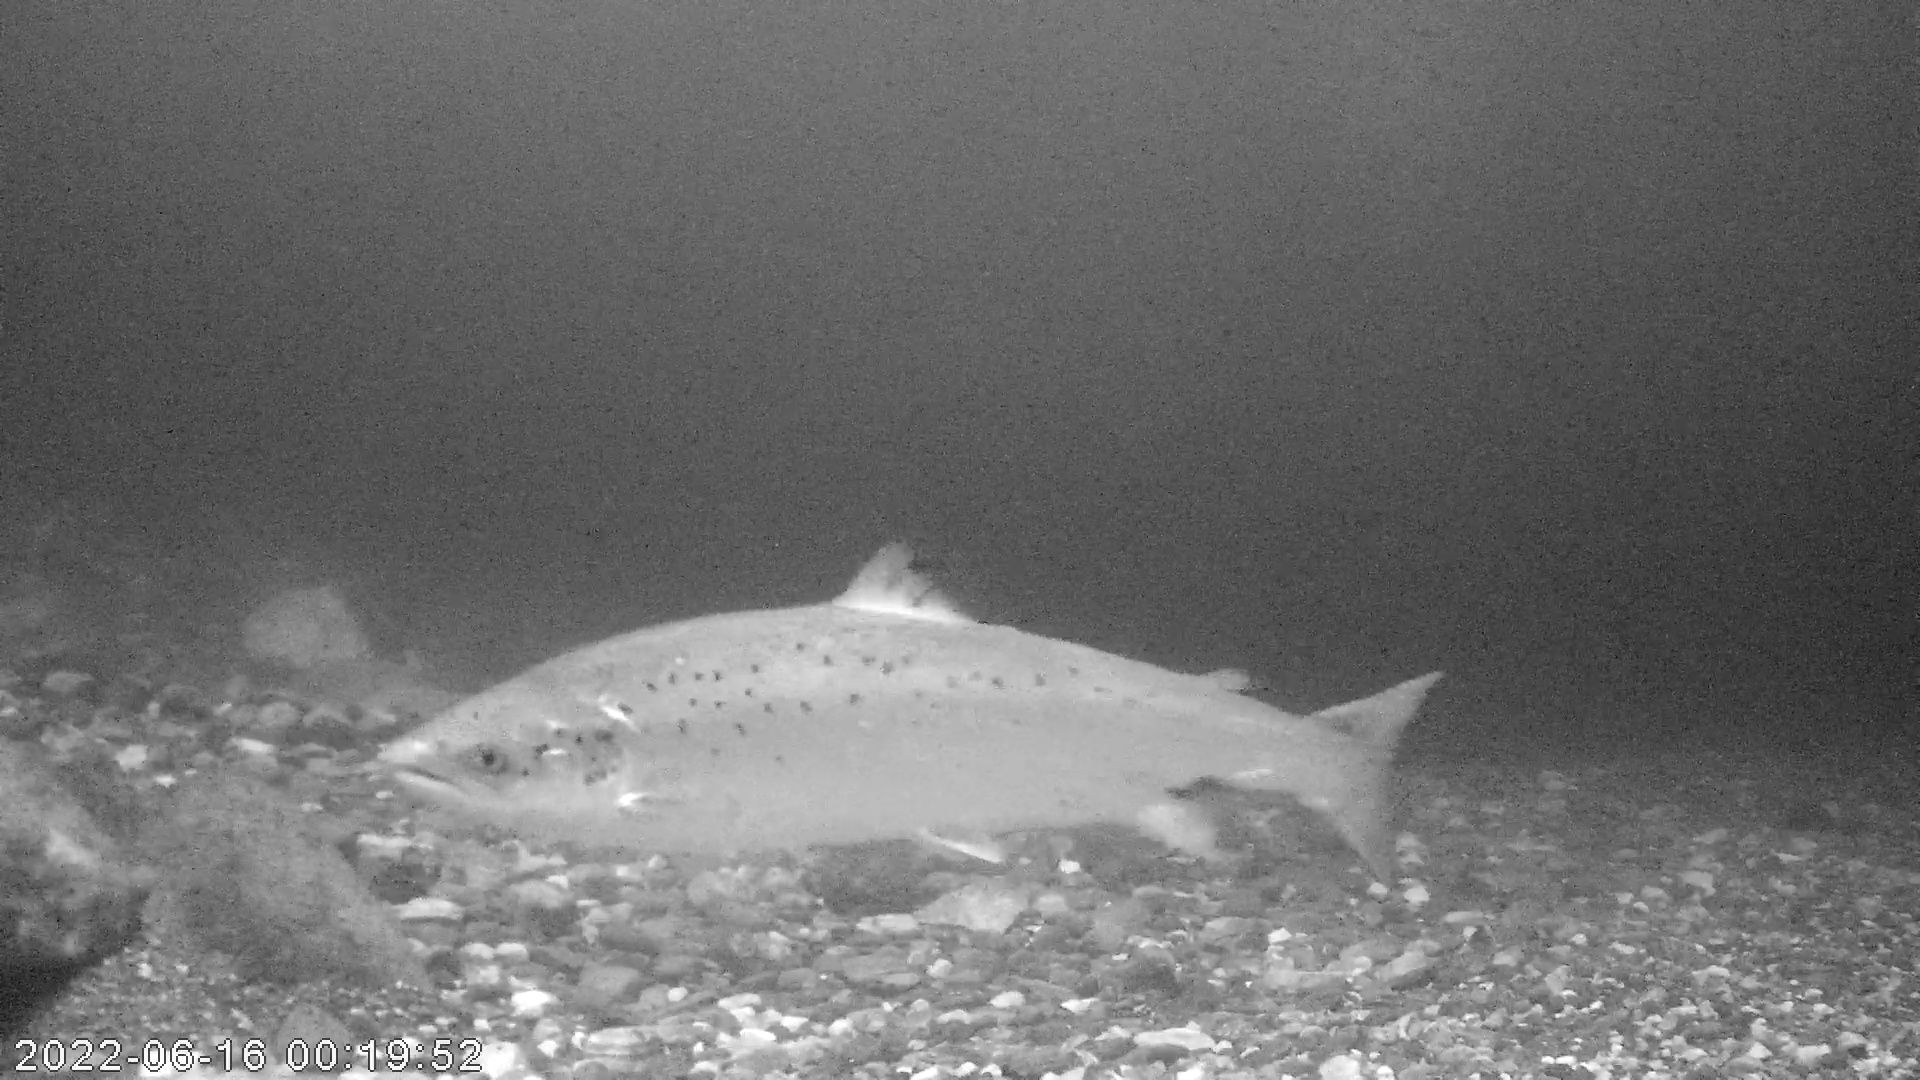salmon: (372, 535, 1447, 886)
